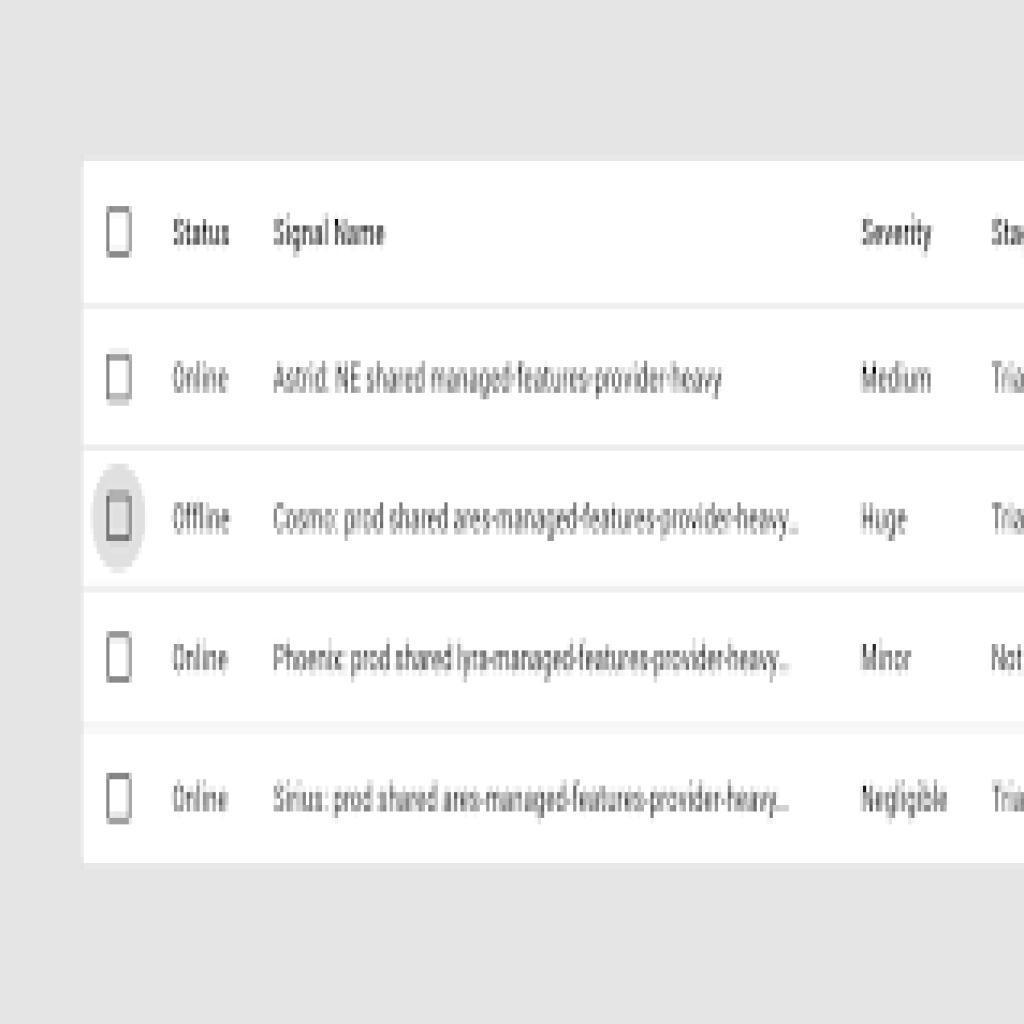checkbox: (105, 633, 136, 678), (106, 208, 134, 254), (106, 494, 134, 539), (107, 774, 136, 817), (108, 355, 132, 400)
